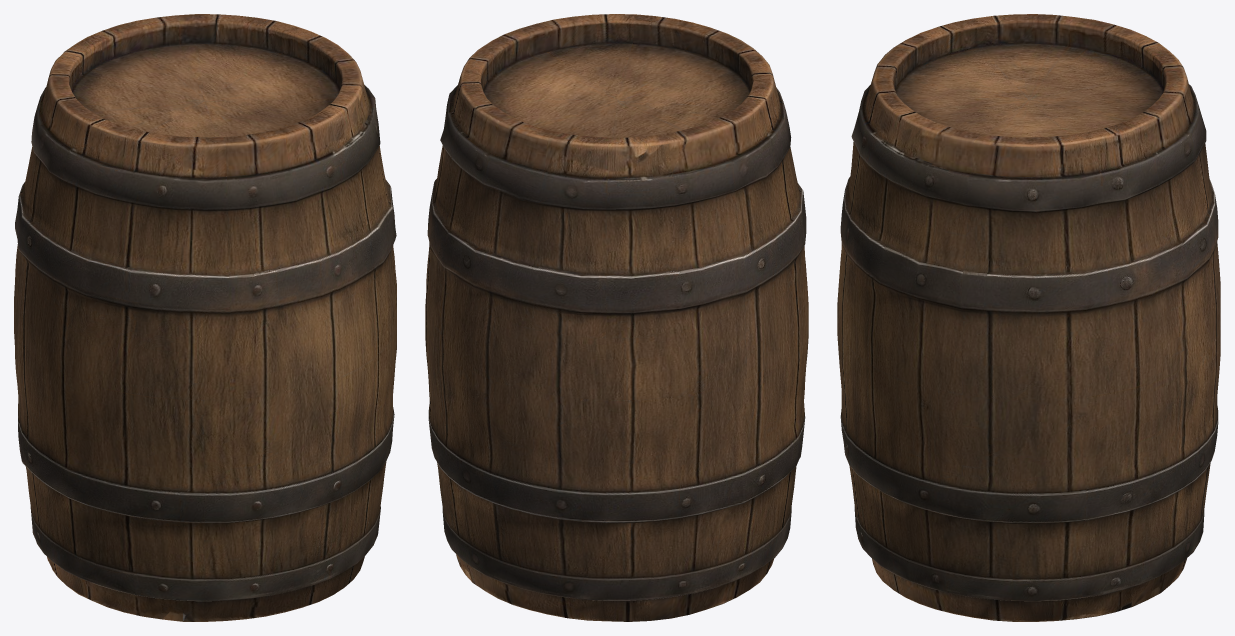
File: barrel.glb
The picture shows the model from 3 angles, left to right: view 1: azimuth 30°, elevation 25°; view 2: azimuth 150°, elevation 25°; view 3: azimuth 270°, elevation 25°; orthographic projection.
Bounding box in the file's own units: 1.39 × 1.91 × 1.39.
1 material, 1 textured.
